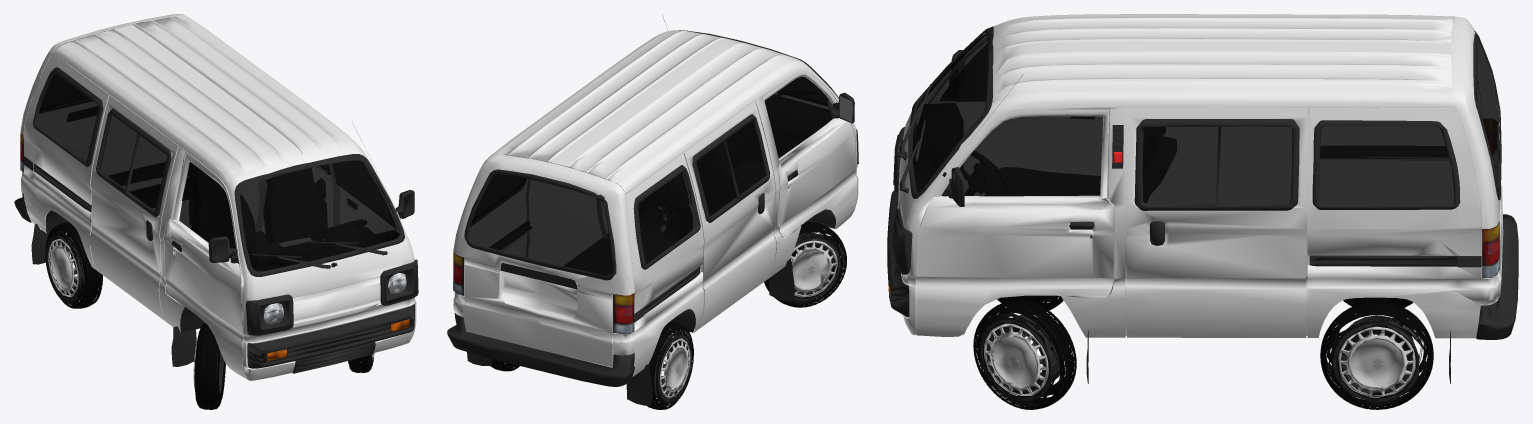
File: keivan.glb
3 renders of one model, left to right at view 1: azimuth 30°, elevation 25°; view 2: azimuth 150°, elevation 25°; view 3: azimuth 270°, elevation 25°, orthographic. The views are drawn at different scales.
Parts seen in each view (by area): view 1: fit_nose_forward; view 2: fit_nose_forward; view 3: fit_nose_forward.
Part boxes in pixels (box(x1,y1,x2,y2)): fit_nose_forward: box(14, 14, 418, 409); fit_nose_forward: box(447, 14, 858, 409); fit_nose_forward: box(887, 14, 1518, 409).
Size of the model in its own units: 158 by 183 by 322.
15 materials, 4 textured.
